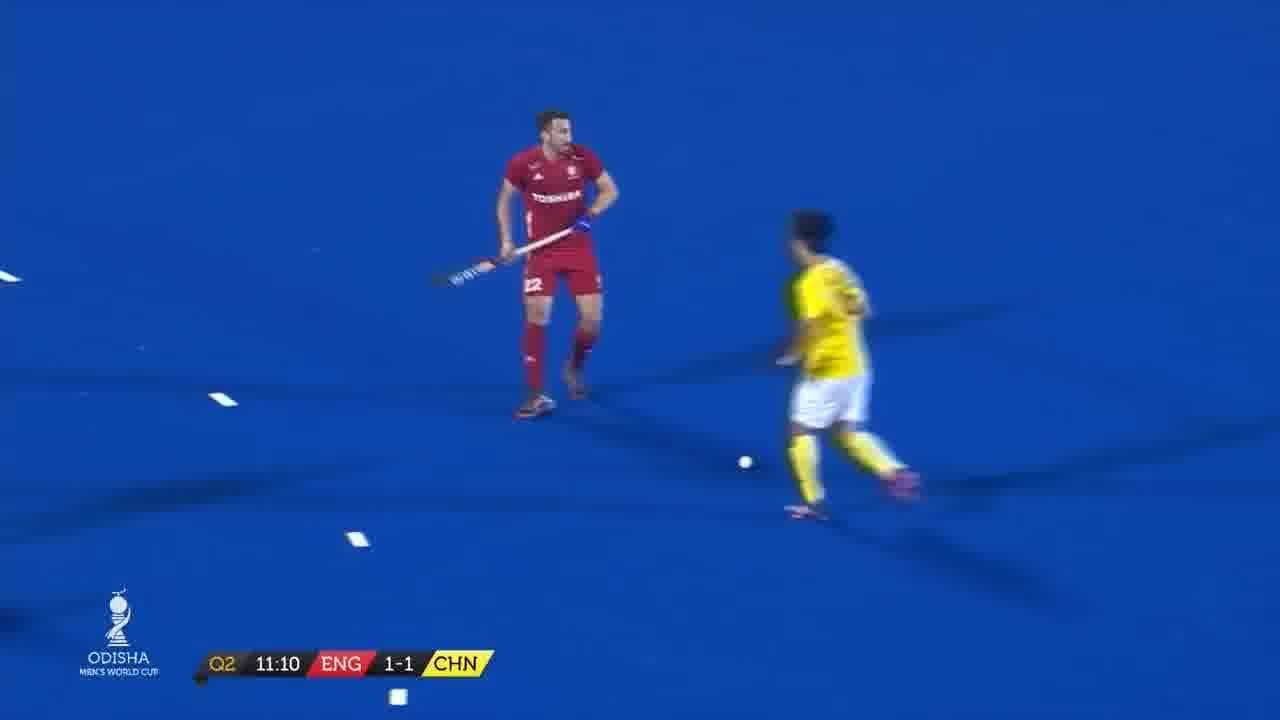ball: (727, 440, 771, 478)
